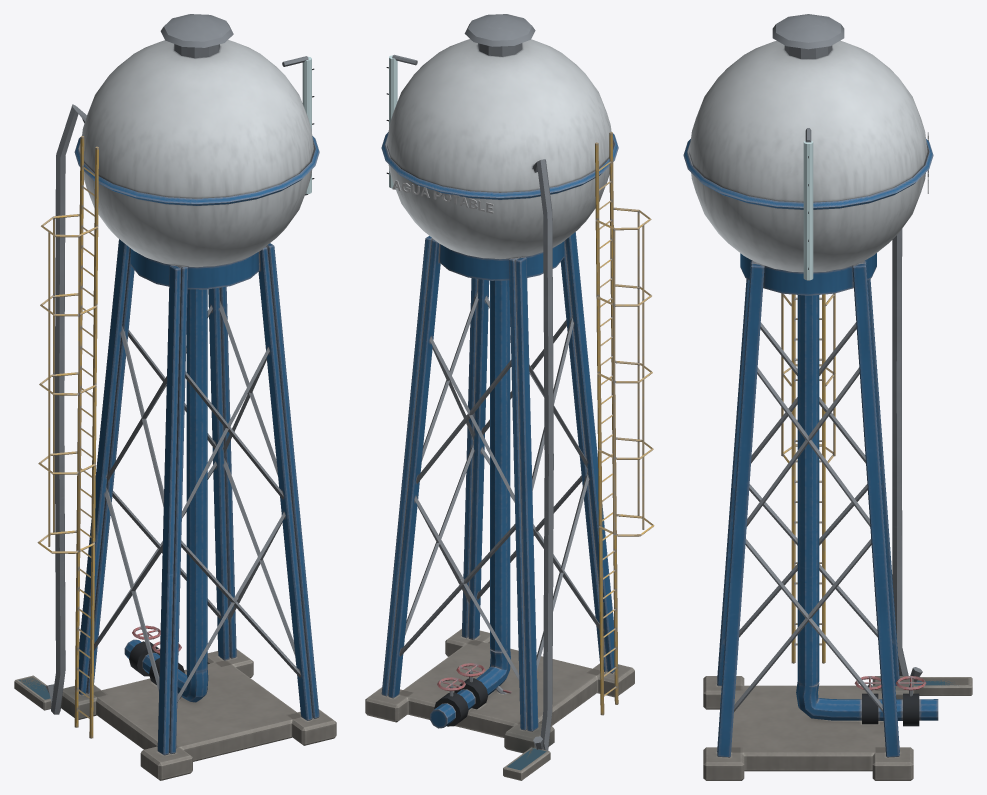
File: deposito_agua.fbx
The picture shows the model from 3 angles, left to right: view 1: azimuth 30°, elevation 25°; view 2: azimuth 150°, elevation 25°; view 3: azimuth 270°, elevation 25°; orthographic projection. The views are drawn at different scales.
Visible parts, largest first — view 1: deposito_agua, deposito_agua_nivel_cristal; view 2: deposito_agua, deposito_agua_nivel_cristal; view 3: deposito_agua, deposito_agua_nivel_cristal.
Part boxes in pixels (<box>): deposito_agua: <box>14,14,336,780</box>; deposito_agua_nivel_cristal: <box>302,56,311,193</box>; deposito_agua: <box>365,14,654,780</box>; deposito_agua_nivel_cristal: <box>389,55,397,188</box>; deposito_agua: <box>683,14,972,780</box>; deposito_agua_nivel_cristal: <box>803,140,813,280</box>.
Size of the model in its own units: 4.65 by 11.71 by 4.23.
2 materials, 1 textured.
